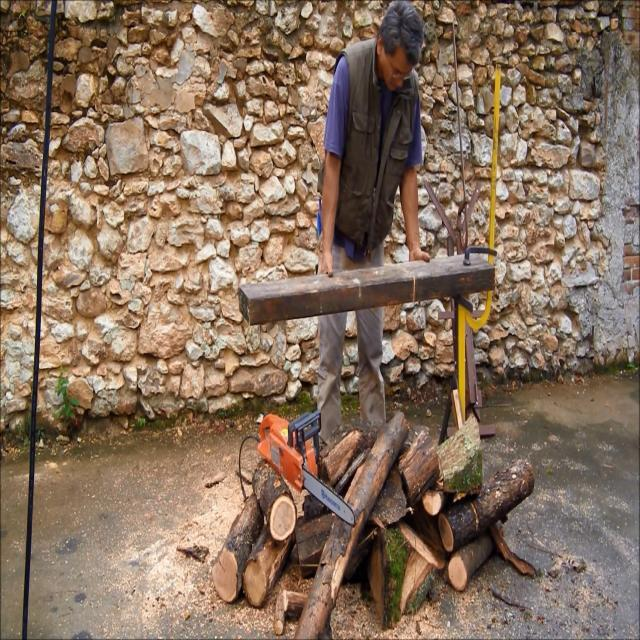Chainsaw: (238, 385, 364, 545)
